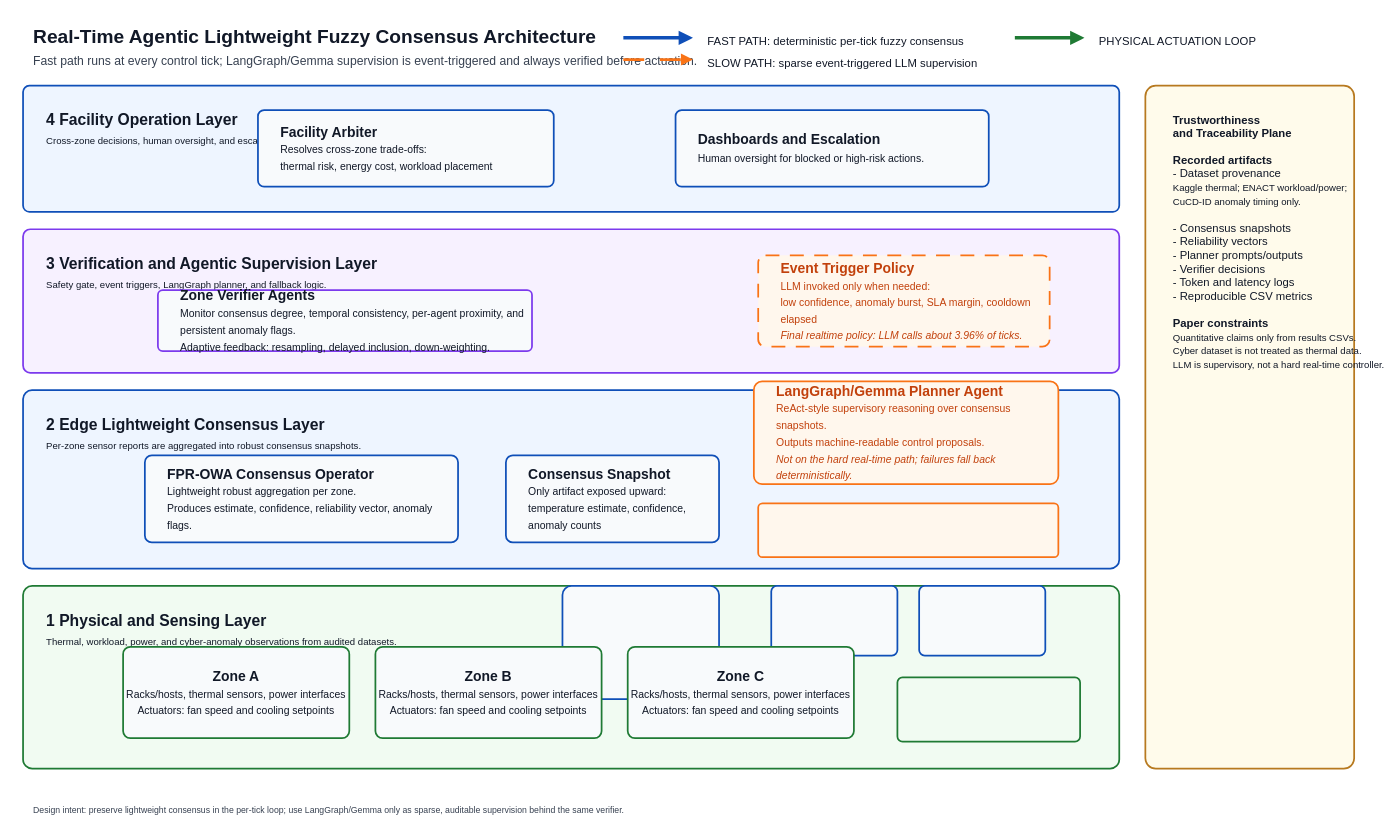
This 1399x834 diagram has some shape labels left out. Here are the shapes that lost their labels. From the top down, the centre of each, then its label:
pixel 908 530: Safety Result Verifier variants executed 0 unsafe LLM actions.
pixel 834 620: Verified safe action OK
pixel 982 620: Fallback conservative FB
pixel 640 642: Shared Verifier Non-bypassable gate SLA, policy, actuator limits OK / fallback
pixel 988 709: Realtime Result mean loop latency 285 ms thermal SLA violations 0.0
